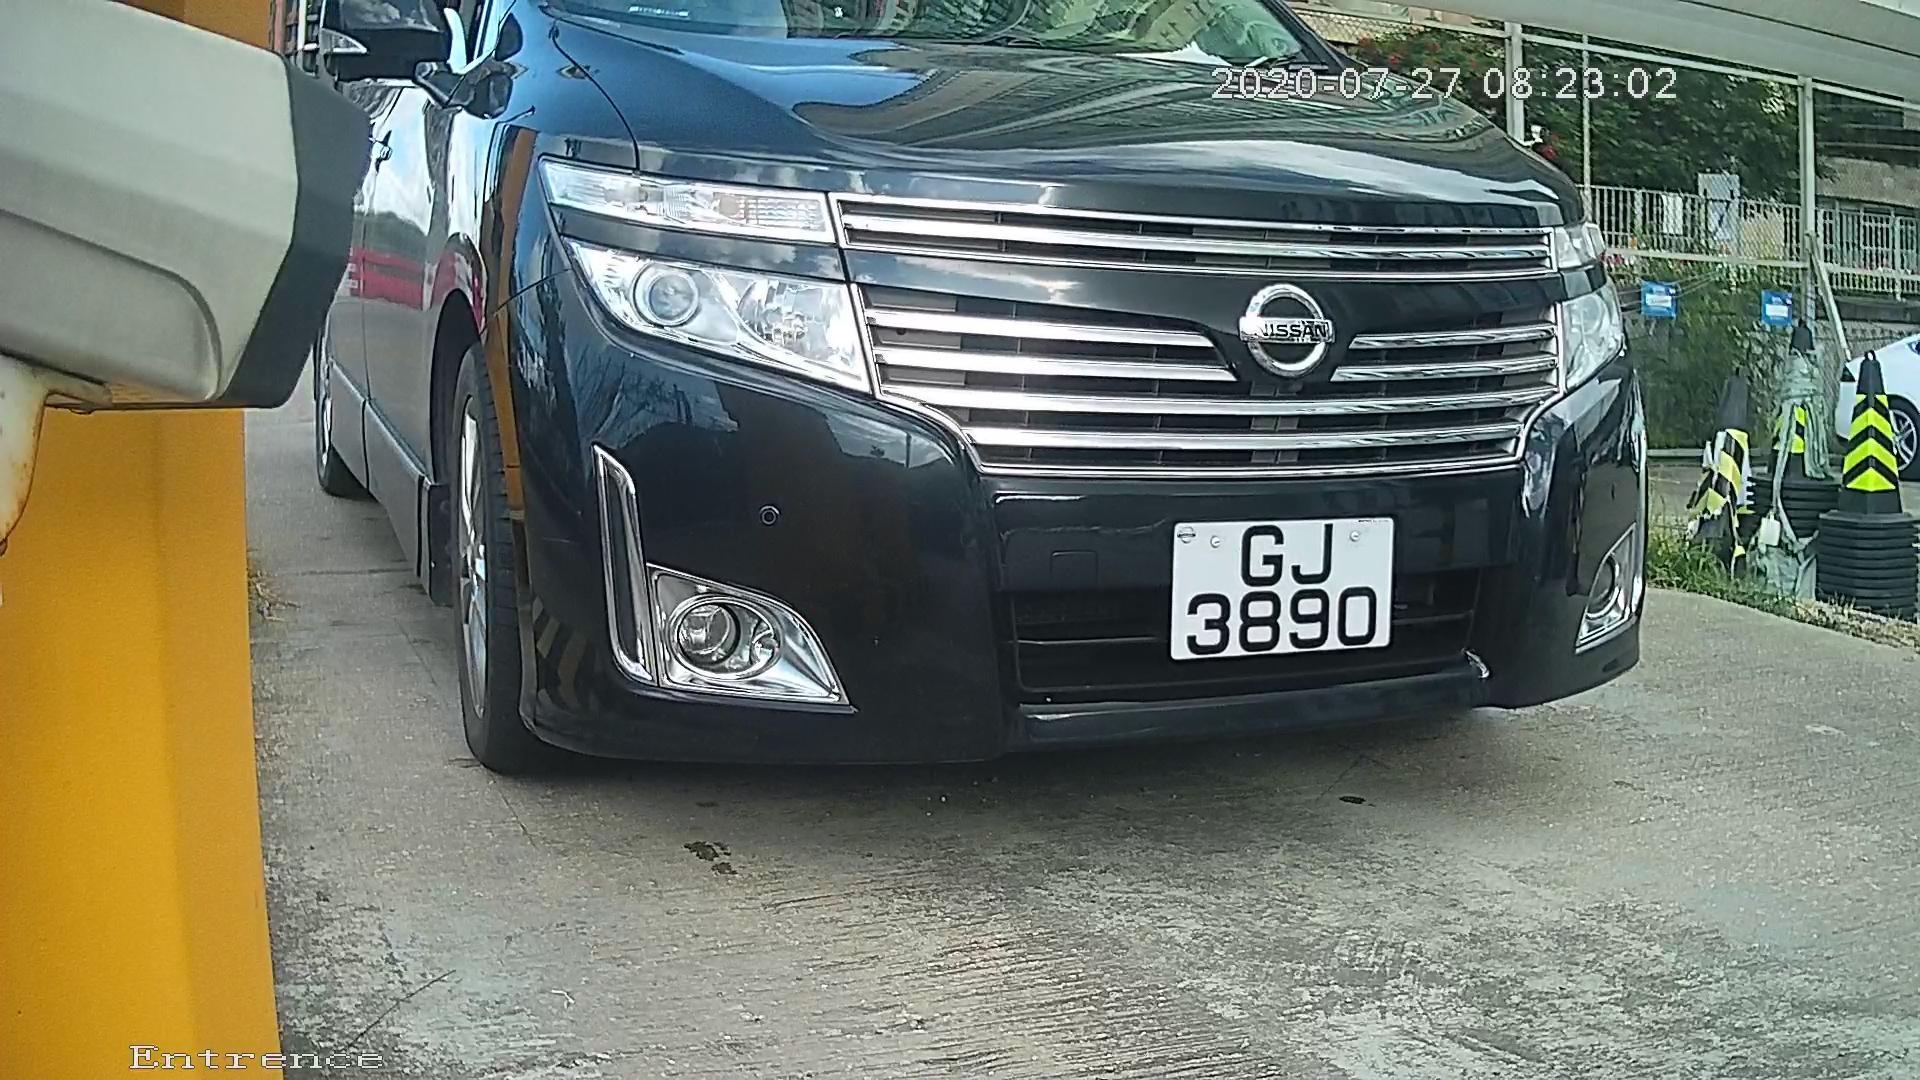License Plate: (1149, 507, 1415, 666)
